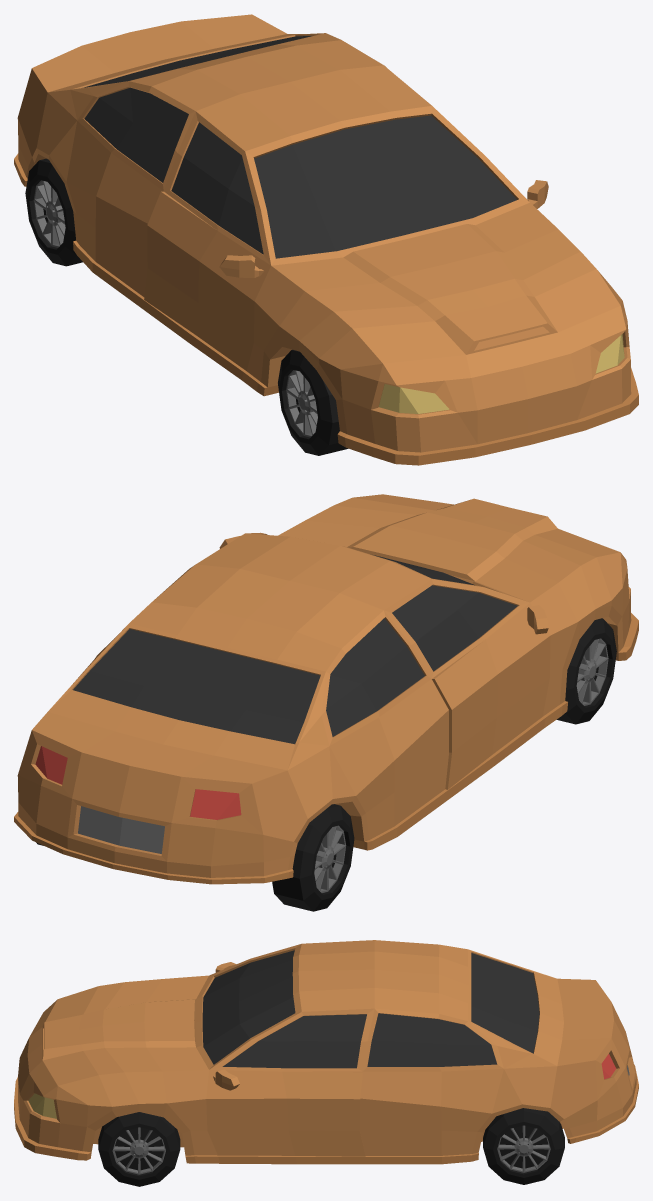
Rendered from car-sport.glb.
The picture shows the model from 3 angles, top to bottom: view 1: azimuth 30°, elevation 25°; view 2: azimuth 150°, elevation 25°; view 3: azimuth 270°, elevation 25°; orthographic projection. The views are drawn at different scales.
Visible parts, largest first — view 1: SportsCar_Cube.005; view 2: SportsCar_Cube.005; view 3: SportsCar_Cube.005.
Part boxes in pixels (x1,y1,x2,y2): SportsCar_Cube.005: (14, 14, 638, 465); SportsCar_Cube.005: (14, 494, 638, 911); SportsCar_Cube.005: (14, 940, 638, 1186).
Size of the model in its own units: 1.8 by 1.16 by 3.97.
Materials: 1 (1 with a texture image).
